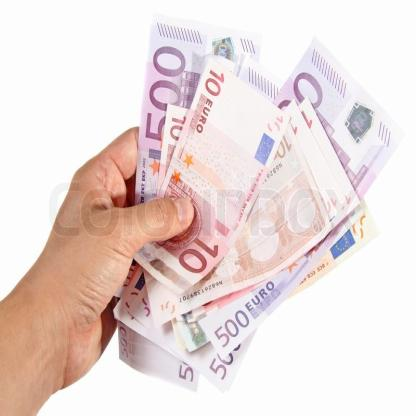billete: (108, 7, 408, 395)
